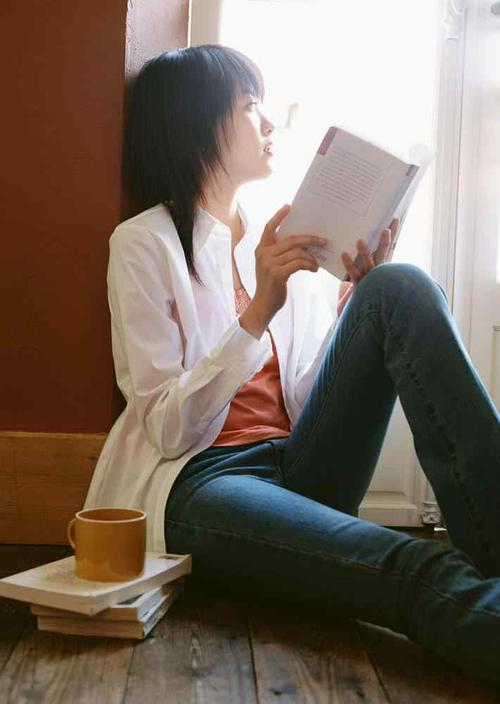book: (269, 106, 447, 311), (5, 538, 207, 618), (28, 596, 181, 645), (28, 581, 180, 624)
